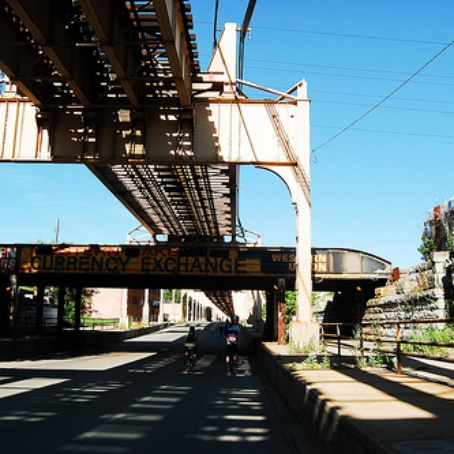bridge: (1, 1, 322, 354)
sky: (1, 1, 446, 230)
street: (1, 332, 275, 454)
